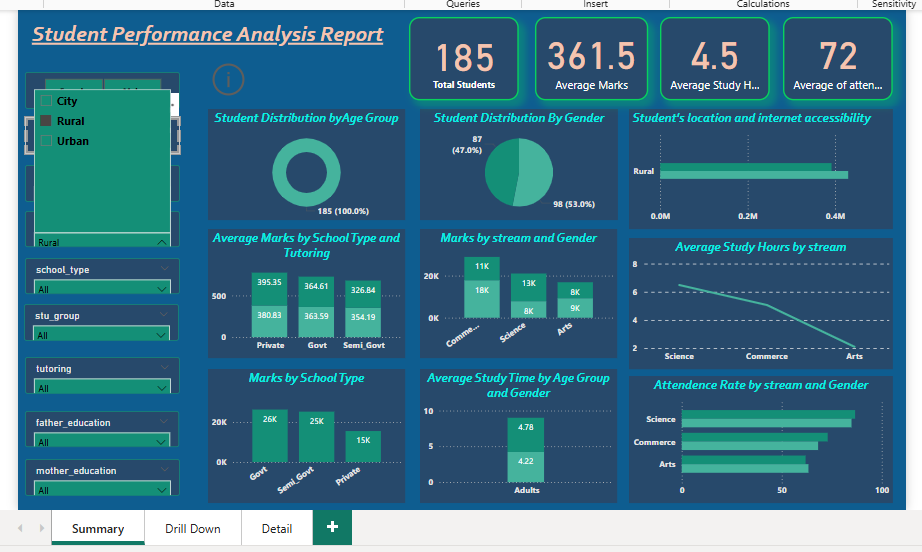

The page's visual inventory and layout, read from the dashboard file:
{"tool":"powerbi","page":{"name":"Summary","canvas":[1280,720],"ordinal":0},"visuals":[{"type":"pieChart","title":"Student Distribution By Gender","fields":{"Category":["bd_students_per.gender"],"Y":["CountNonNull(bd_students_per.id)"]},"box":[578.9,142.6,285.1,159.8],"z":0},{"type":"columnChart","title":"Marks by stream and Gender","fields":{"Category":["bd_students_per.stu_group"],"Y":["Sum(bd_students_per.TotalMarks)"],"Series":["bd_students_per.gender"]},"box":[578.9,315.4,283.7,185.8],"z":1000},{"type":"donutChart","title":"Student Distribution byAge Group","fields":{"Category":["bd_students_per.Age Group"],"Y":["CountNonNull(bd_students_per.id)"]},"box":[273.6,142.6,283.7,159.8],"z":2000},{"type":"clusteredBarChart","title":"Attendence Rate by stream and Gender","fields":{"Category":["bd_students_per.stu_group"],"Series":["bd_students_per.gender"],"Y":["Avg(bd_students_per.attendance)"]},"box":[879.8,527,380.2,182.9],"z":3000},{"type":"columnChart","title":"Average Study Time by Age Group and Gender","fields":{"Category":["bd_students_per.Age Group"],"Y":["Avg(bd_students_per.studytime)"],"Series":["bd_students_per.gender"]},"box":[578.9,517,283.7,193],"z":4000},{"type":"columnChart","title":"Marks by School Type","fields":{"Y":["Sum(bd_students_per.TotalMarks)"],"Category":["bd_students_per.school_type"]},"box":[273.6,517,283.7,193],"z":5000},{"type":"lineChart","title":"Average Study Hours by stream","fields":{"Y":["bd_students_per.Avgstudyhours"],"Category":["bd_students_per.stu_group"]},"box":[879.8,328.3,380.2,188.6],"z":6000},{"type":"card","fields":{"Values":["CountNonNull(bd_students_per.id)"]},"box":[563,10.1,158.4,119.5],"z":7000},{"type":"clusteredBarChart","title":"Student''s location and internet accessibility","fields":{"Series":["bd_students_per.internet_access"],"Y":["Sum(bd_students_per.id)"],"Category":["bd_students_per.location"]},"box":[879.8,142.6,380.2,172.8],"z":8000},{"type":"columnChart","title":"Average Marks by School Type and Tutoring","fields":{"Y":["Avg(bd_students_per.TotalMarks)"],"Category":["bd_students_per.school_type"],"Series":["bd_students_per.tutoring"]},"box":[273.6,315.4,283.7,185.8],"z":9000},{"type":"card","fields":{"Values":["Avg(bd_students_per.TotalMarks)"]},"box":[744.5,10.1,162.7,119.5],"z":10000},{"type":"card","fields":{"Values":["Avg(bd_students_per.studytime)"]},"box":[924.5,10.1,158.4,119.5],"z":11000},{"type":"slicer","fields":{"Values":["bd_students_per.tutoring"]},"box":[10.1,499.7,223.2,53.3],"z":12000},{"type":"slicer","fields":{"Values":["bd_students_per.gender"]},"box":[10.1,89.3,223.2,53.3],"z":13000},{"type":"slicer","fields":{"Values":["bd_students_per.location"]},"box":[10.1,289.4,223.2,51.8],"z":14000},{"type":"slicer","fields":{"Values":["bd_students_per.school_type"]},"box":[10.1,357.1,223.2,51.8],"z":15000},{"type":"card","fields":{"Values":["Avg(bd_students_per.attendance)"]},"box":[1101.6,10.1,158.4,119.5],"z":16000},{"type":"textbox","box":[10.1,10.1,525.6,54.7],"z":17000},{"type":"slicer","fields":{"Values":["bd_students_per.stu_group"]},"box":[8.6,423.4,223.2,53.3],"z":18000},{"type":"slicer","fields":{"Values":["bd_students_per.Age Group"]},"box":[10.1,154.1,223.2,53.3],"z":19000},{"type":"slicer","fields":{"Values":["bd_students_per.father_education"]},"box":[10.1,577.4,221.8,51.8],"z":20000},{"type":"slicer","fields":{"Values":["bd_students_per.mother_education"]},"box":[10.1,646.6,223.2,53.3],"z":21000},{"type":"slicer","fields":{"Values":["bd_students_per.parental_involvement"]},"box":[10.1,223.2,223.2,53.3],"z":22000},{"type":"actionButton","title":"See More","box":[273.6,70.6,126.7,59],"z":23000}]}

Visuals, with their boxes on the page's 1280x720 design canvas (x1, y1, x2, y2). These are canvas units, not pixel positions in the 922x552 screenshot, which may show the page scaled, cropped or inside an application window:
"Student Distribution By Gender" pieChart: [579, 143, 864, 302]
"Marks by stream and Gender" columnChart: [579, 315, 863, 501]
"Student Distribution byAge Group" donutChart: [274, 143, 557, 302]
"Attendence Rate by stream and Gender" clusteredBarChart: [880, 527, 1260, 710]
"Average Study Time by Age Group and Gender" columnChart: [579, 517, 863, 710]
"Marks by School Type" columnChart: [274, 517, 557, 710]
"Average Study Hours by stream" lineChart: [880, 328, 1260, 517]
card - CountNonNull(bd_students_per.id): [563, 10, 721, 130]
"Student''s location and internet accessibility" clusteredBarChart: [880, 143, 1260, 315]
"Average Marks by School Type and Tutoring" columnChart: [274, 315, 557, 501]
card - Avg(bd_students_per.TotalMarks): [744, 10, 907, 130]
card - Avg(bd_students_per.studytime): [924, 10, 1083, 130]
slicer - bd_students_per.tutoring: [10, 500, 233, 553]
slicer - bd_students_per.gender: [10, 89, 233, 143]
slicer - bd_students_per.location: [10, 289, 233, 341]
slicer - bd_students_per.school_type: [10, 357, 233, 409]
card - Avg(bd_students_per.attendance): [1102, 10, 1260, 130]
textbox: [10, 10, 536, 65]
slicer - bd_students_per.stu_group: [9, 423, 232, 477]
slicer - bd_students_per.Age Group: [10, 154, 233, 207]
slicer - bd_students_per.father_education: [10, 577, 232, 629]
slicer - bd_students_per.mother_education: [10, 647, 233, 700]
slicer - bd_students_per.parental_involvement: [10, 223, 233, 276]
"See More" actionButton: [274, 71, 400, 130]
